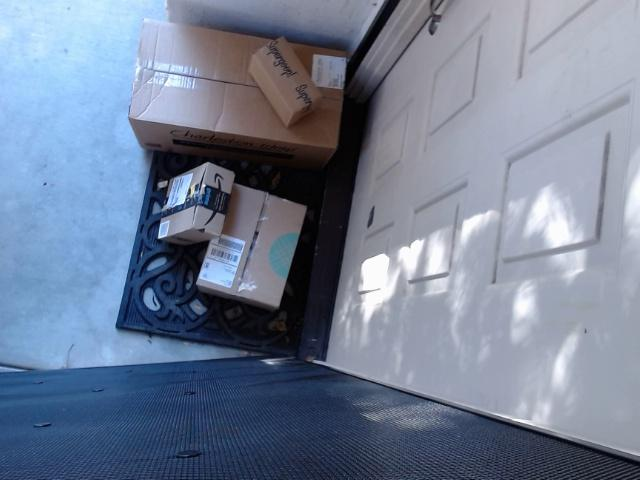box: (91, 0, 357, 170), (194, 174, 324, 328), (147, 164, 258, 268), (237, 21, 329, 128)
